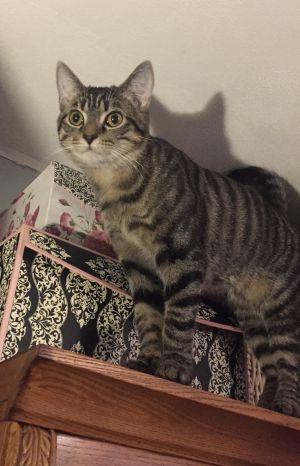bengal: (47, 48, 166, 181)
